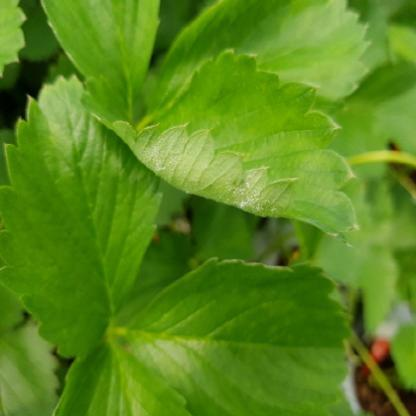Strawberry_Powdery_Mildew_Leaf: (80, 50, 362, 250)
